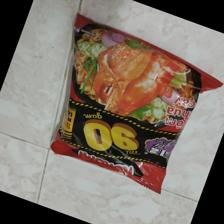Kokomi: (46, 12, 224, 196)
